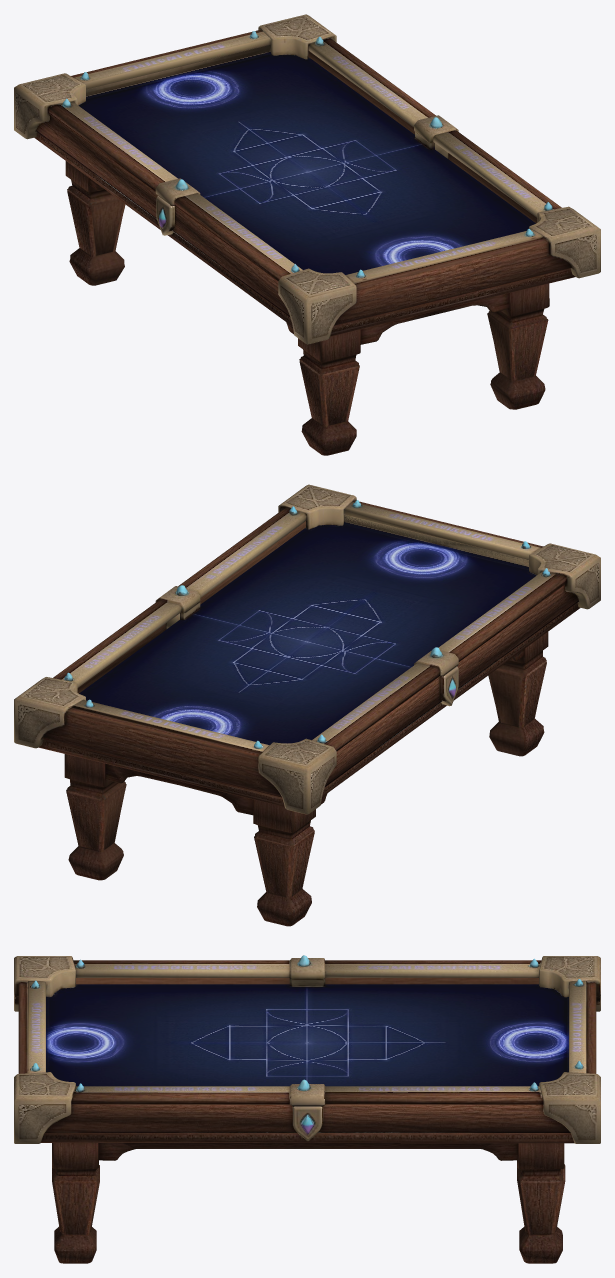
File: tripo_convert_0233b909-aa32-476b-b624-28438e780ee4.fbx
The picture shows the model from 3 angles, top to bottom: view 1: azimuth 30°, elevation 25°; view 2: azimuth 150°, elevation 25°; view 3: azimuth 270°, elevation 25°; orthographic projection.
Parts seen in each view (by area): view 1: tripo_node_0233b909; view 2: tripo_node_0233b909; view 3: tripo_node_0233b909.
Boxes of the visible parts, bbox=[...] form: tripo_node_0233b909: bbox=[14, 14, 600, 455]; tripo_node_0233b909: bbox=[14, 484, 600, 926]; tripo_node_0233b909: bbox=[14, 955, 600, 1263].
Bounding box in the file's own units: 0.5801 × 0.3613 × 0.998.
Materials: 1 (1 with a texture image).
